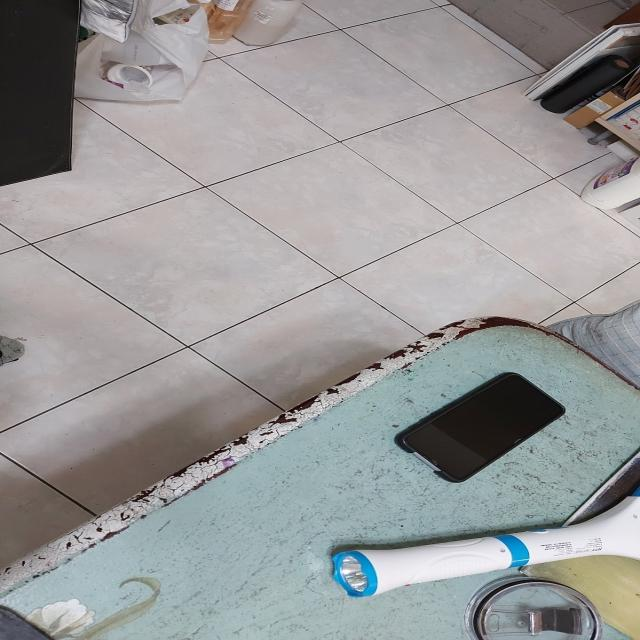Smartphone: (395, 373, 565, 483)
